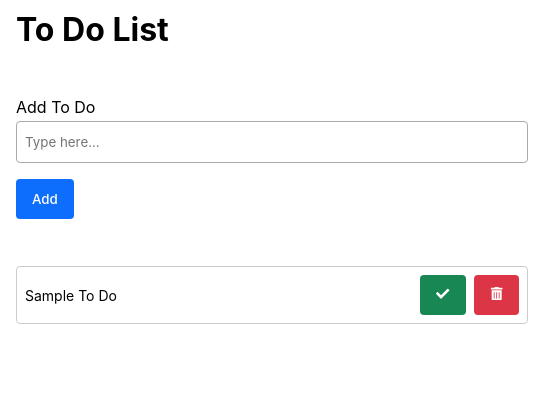
Test case: Test ToDo Page › should remove an item on to do list
Step 1. Type "My test To Do" into the field with placeholder "Type here..." → [272, 142], box [16,121,528,163]
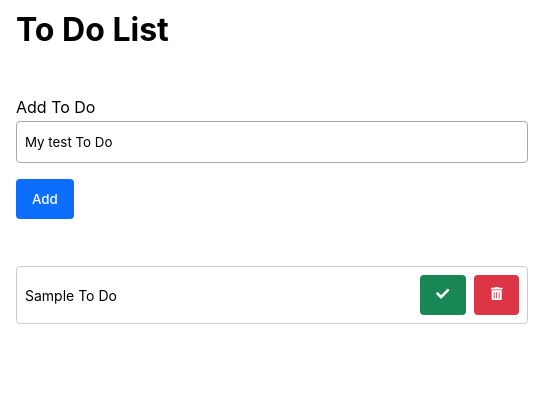
Step 2. Click the button "Add" → [45, 199], box [16,179,74,219]
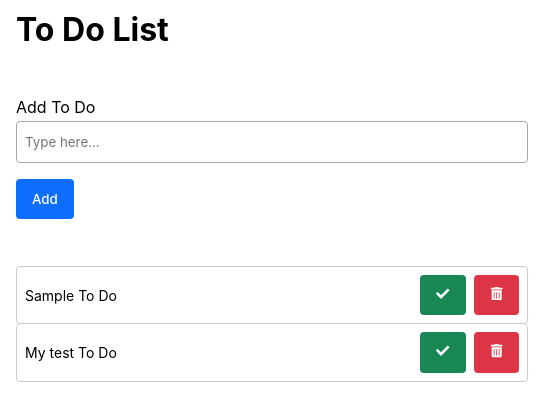
Step 3. Click the 3rd button with test id "button" → [496, 295], box [474,275,519,315]
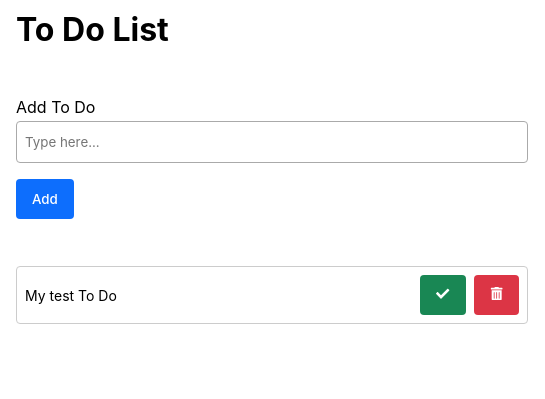
Expected: the number of elements with test id "list-item" is 1, [16,266,528,324]
